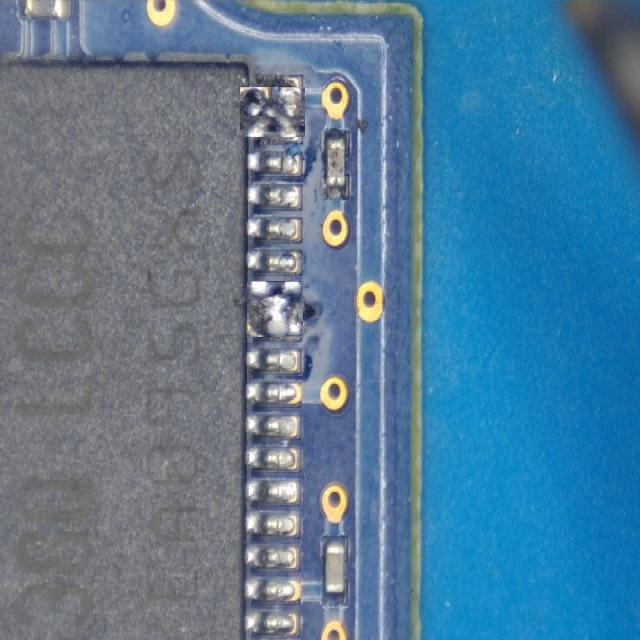Short_circuit: (240, 87, 305, 137), (247, 282, 303, 337)
